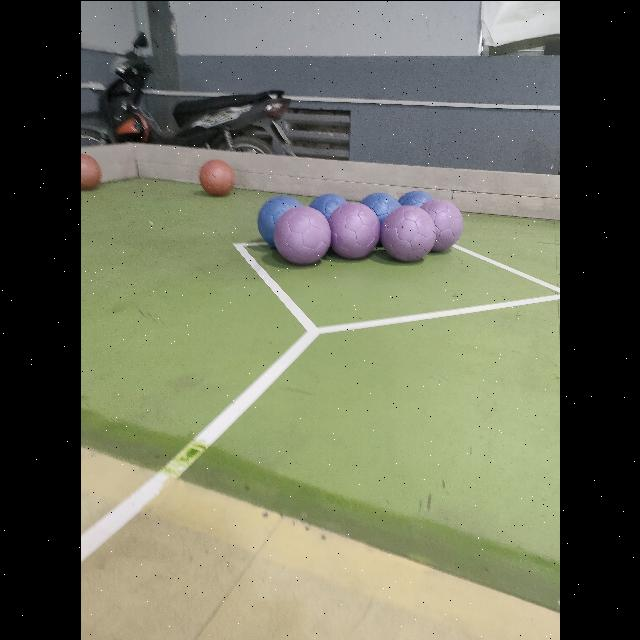B: (258, 195, 302, 245), (362, 192, 398, 222), (310, 194, 346, 218), (398, 188, 432, 206)
P: (274, 205, 330, 263), (380, 204, 436, 260), (328, 201, 380, 257), (418, 200, 459, 250)
R: (200, 158, 234, 194), (80, 153, 100, 189)
